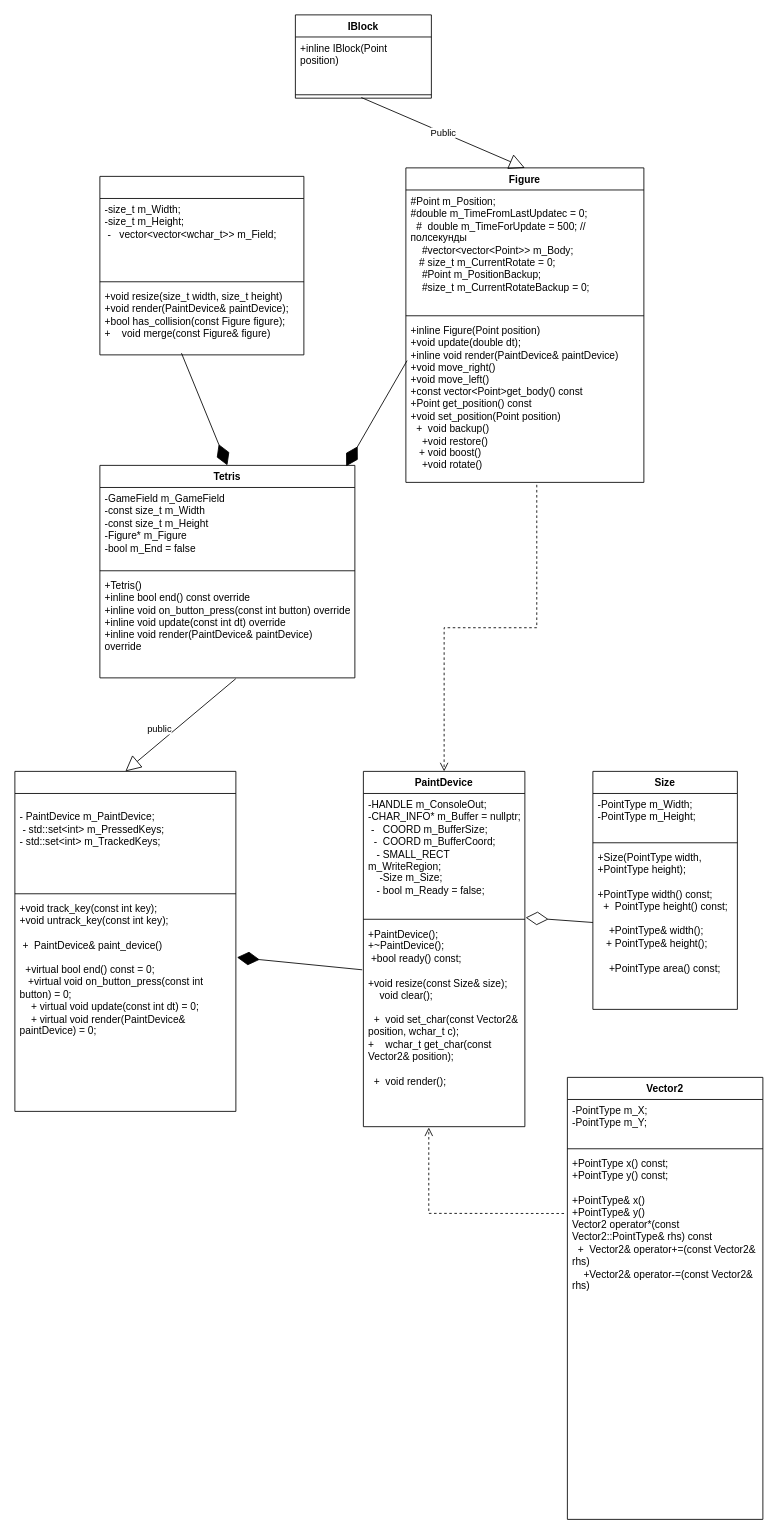
The diagram is 778 pixels wide and 1537 high, and some of its shapes have lost their labels. Each missing label, with the box of its shape:
Engine: (14, 771, 236, 1111)
GameField: (99, 176, 304, 355)
